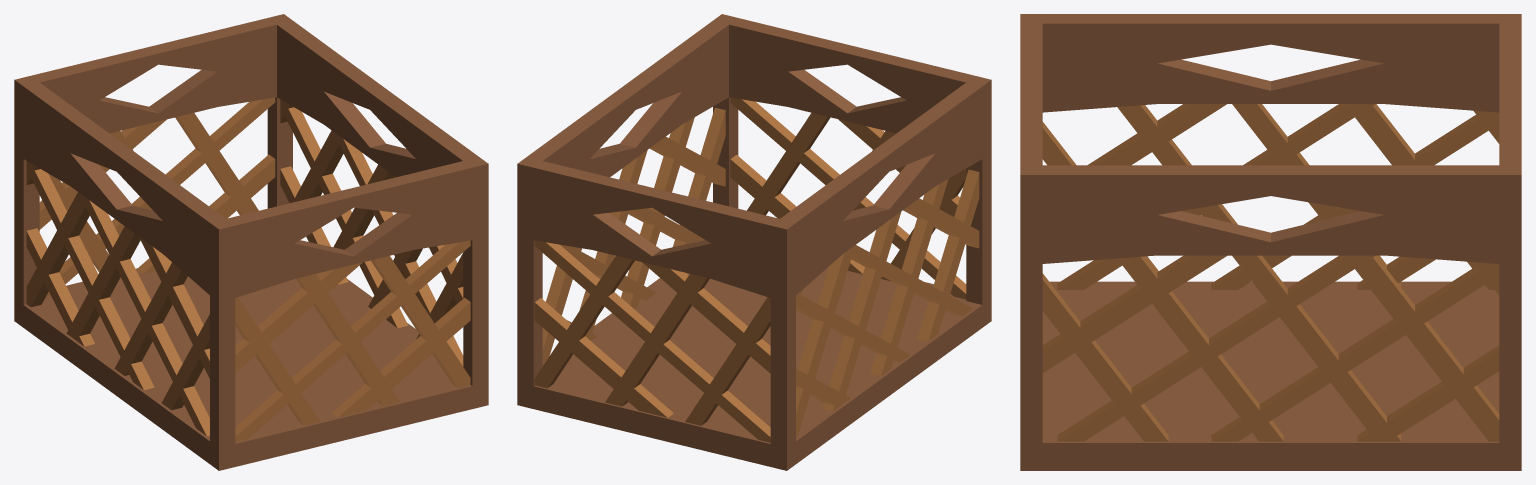
The model's file is milk_crate.fbx.
3 renders of one model, left to right at view 1: azimuth 30°, elevation 25°; view 2: azimuth 150°, elevation 25°; view 3: azimuth 270°, elevation 25°, orthographic. The views are drawn at different scales.
Parts seen in each view (by area): view 1: Cube, Cube.001, Cube_cell, Cube.003, Cube_cell.001, Cube.003_cell, Cube_cell.013, Cube.004, Cube_cell.002, Cube.002, Cube_cell.004, Cube_cell.006 (+16 smaller); view 2: Cube, Cube_cell.006, Cube.002, Cube.003, Cube_cell, Cube.004, Cube.002_cell.001, Cube.003_cell, Cube.001, Cube_cell.001, Cube_cell.008, Cube_cell.007 (+12 smaller); view 3: Cube, Cube.004, Cube_cell.006, Cube_cell.002, Cube_cell.005, Cube.003, Cube.004_cell.002, Cube_cell.007, Cube_cell.001, Cube.004_cell, Cube_cell, Cube_cell.014 (+5 smaller).
Part boxes in pixels (left/top/right/bottom): Cube: left=14, top=24, right=488, bottom=470; Cube.001: left=235, top=240, right=470, bottom=442; Cube_cell: left=14, top=58, right=136, bottom=281; Cube.003: left=26, top=161, right=209, bottom=435; Cube_cell.001: left=205, top=14, right=334, bottom=203; Cube.003_cell: left=61, top=205, right=209, bottom=435; Cube_cell.013: left=91, top=33, right=241, bottom=133; Cube.004: left=280, top=99, right=463, bottom=338; Cube_cell.002: left=407, top=147, right=488, bottom=417; Cube.002: left=39, top=98, right=275, bottom=297; Cube_cell.004: left=237, top=206, right=338, bottom=297; Cube_cell.006: left=14, top=179, right=317, bottom=361; Cube: left=517, top=14, right=991, bottom=469; Cube_cell.006: left=517, top=325, right=852, bottom=470; Cube.002: left=534, top=240, right=770, bottom=441; Cube.003: left=796, top=173, right=979, bottom=438; Cube_cell: left=699, top=147, right=893, bottom=420; Cube.004: left=542, top=107, right=725, bottom=365; Cube.002_cell.001: left=607, top=267, right=770, bottom=442; Cube.003_cell: left=828, top=169, right=979, bottom=370; Cube.001: left=730, top=97, right=966, bottom=297; Cube_cell.001: left=517, top=126, right=605, bottom=331; Cube_cell.008: left=893, top=83, right=989, bottom=216; Cube_cell.007: left=571, top=61, right=681, bottom=172; Cube: left=1020, top=14, right=1521, bottom=470; Cube.004: left=1042, top=255, right=1499, bottom=441; Cube_cell.006: left=1274, top=281, right=1521, bottom=470; Cube_cell.002: left=1020, top=175, right=1213, bottom=470; Cube_cell.005: left=1042, top=23, right=1259, bottom=112; Cube.003: left=1042, top=104, right=1499, bottom=289; Cube.004_cell.002: left=1198, top=255, right=1499, bottom=441; Cube_cell.007: left=1151, top=165, right=1395, bottom=255; Cube_cell.001: left=1396, top=127, right=1521, bottom=414; Cube.004_cell: left=1042, top=311, right=1282, bottom=441; Cube_cell: left=1260, top=14, right=1521, bottom=109; Cube_cell.014: left=1208, top=380, right=1385, bottom=469.
Size of the model in its own units: 200 by 171 by 263.
